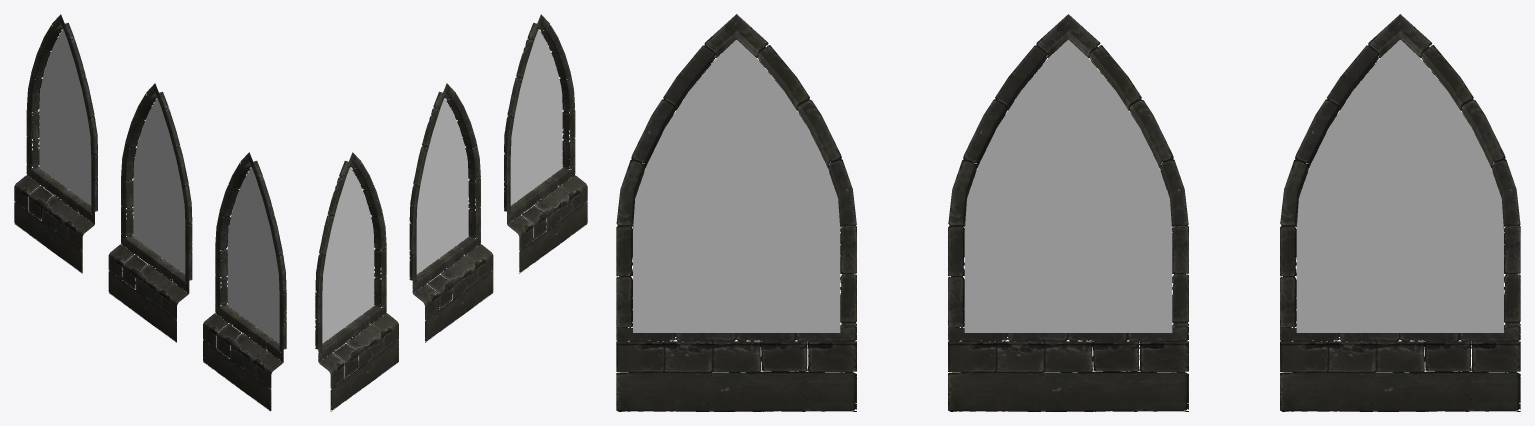
3 renders of one model, left to right at view 1: azimuth 30°, elevation 25°; view 2: azimuth 150°, elevation 25°; view 3: azimuth 270°, elevation 25°, orthographic. The views are drawn at different scales.
Parts seen in each view (by area): view 1: SM_Greathall_Window_Insert_02_LOD0; view 2: SM_Greathall_Window_Insert_02_LOD0; view 3: SM_Greathall_Window_Insert_02_LOD0.
Boxes of the visible parts, box(x1,y1,x2,y2) form: SM_Greathall_Window_Insert_02_LOD0: box(14, 14, 286, 411); SM_Greathall_Window_Insert_02_LOD0: box(315, 14, 587, 411); SM_Greathall_Window_Insert_02_LOD0: box(616, 14, 1520, 411).
Size of the model in its own units: 0.2947 by 3.25 by 6.52.
Materials: 2 (1 with a texture image).
